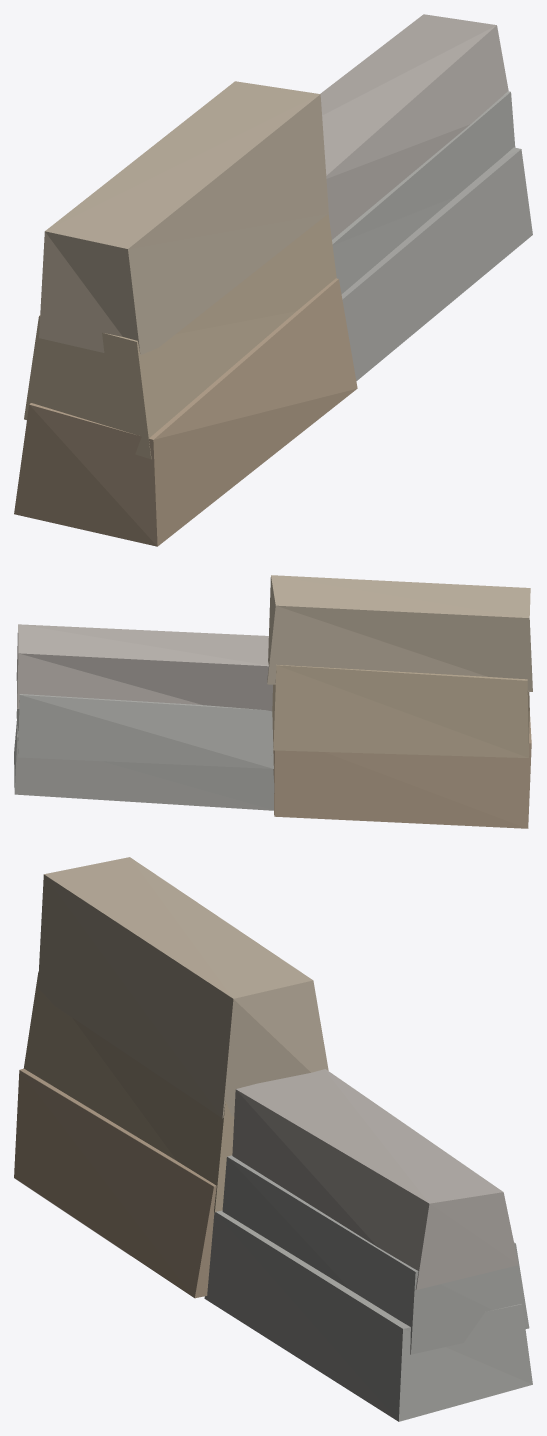
File: farm_-10_9_mid.glb
The picture shows the model from 3 angles, top to bottom: view 1: azimuth 30°, elevation 25°; view 2: azimuth 150°, elevation 25°; view 3: azimuth 270°, elevation 25°; orthographic projection. The views are drawn at different scales.
Visible parts, largest first — view 1: geometry_0; view 2: geometry_0; view 3: geometry_0.
Boxes of the visible parts, x1=… form: geometry_0: x1=14, y1=14, x2=532, y2=546; geometry_0: x1=14, y1=575, x2=532, y2=828; geometry_0: x1=14, y1=857, x2=532, y2=1421.
Size of the model in its own units: 3.12 by 1.46 by 2.16.
